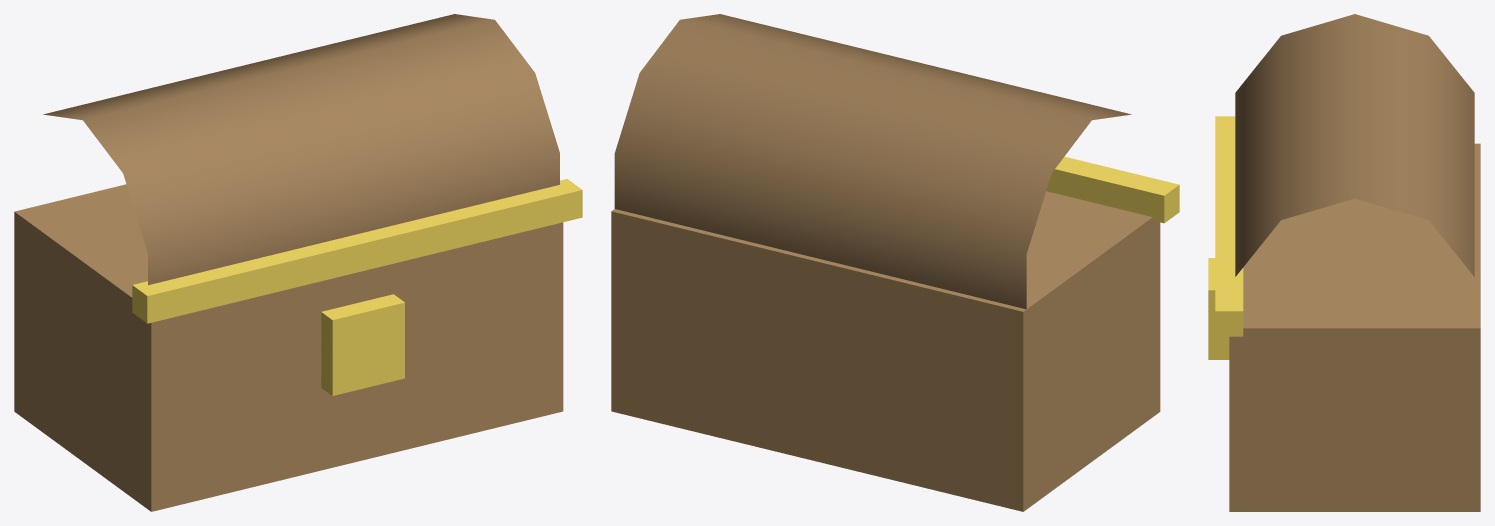
The model's file is treasure_chest.glb.
3 views of the same model, side by side, from view 1: azimuth 30°, elevation 25°; view 2: azimuth 150°, elevation 25°; view 3: azimuth 270°, elevation 25° (orthographic). The views are drawn at different scales.
Parts seen in each view (by area): view 1: treasure_chest; view 2: treasure_chest; view 3: treasure_chest.
Part boxes in pixels (x1,y1,x2,y2): treasure_chest: (14, 14, 582, 511); treasure_chest: (611, 14, 1179, 511); treasure_chest: (1208, 14, 1480, 511).
Bounding box in the file's own units: 1.32 × 0.99 × 0.78.
